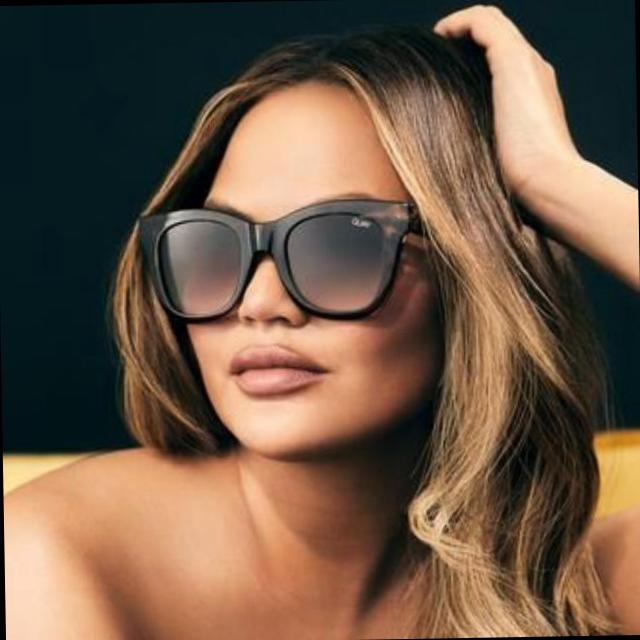glasses: (135, 202, 441, 327)
